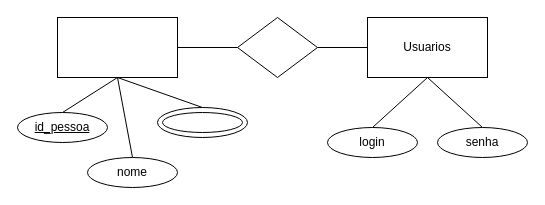
Some shapes in this 545 by 205 pixel diagram are drawn without their labels. The shapes that lost their labels are listed below. From the top down, each one's box as (x1, y1, x2, y2) in pixels, then its label:
(56, 16, 178, 78): Pessoas
(236, 16, 318, 78): Possui
(162, 112, 242, 132): telefones
